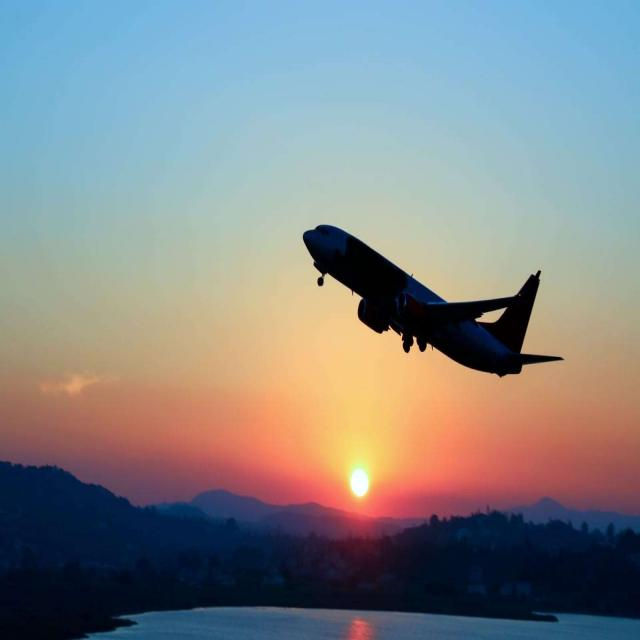plane: (300, 206, 570, 382)
